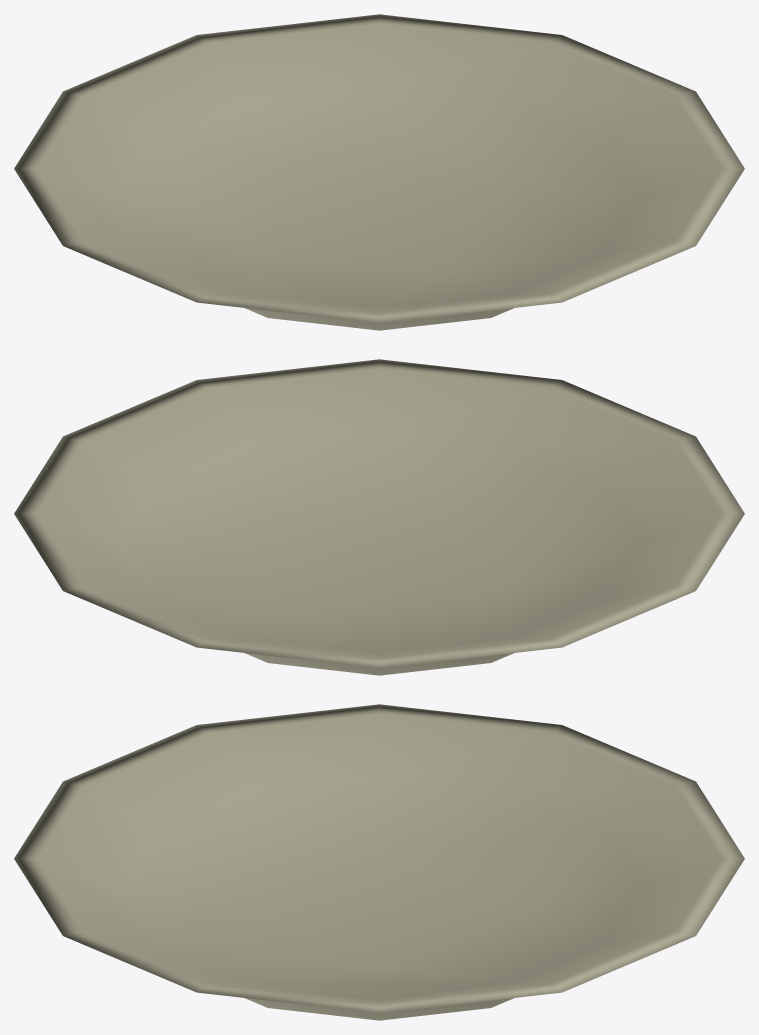
The model's file is OBJETS_Assiette_02_JAM_2024.fbx.
3 renders of one model, top to bottom at view 1: azimuth 30°, elevation 25°; view 2: azimuth 150°, elevation 25°; view 3: azimuth 270°, elevation 25°, orthographic.
Visible parts, largest first — view 1: Assiette6; view 2: Assiette6; view 3: Assiette6.
Part boxes in pixels (x1,y1,x2,y2): Assiette6: (14, 14, 744, 330); Assiette6: (14, 359, 744, 675); Assiette6: (14, 704, 744, 1020).
Size of the model in its own units: 25.25 by 2.58 by 25.25.
